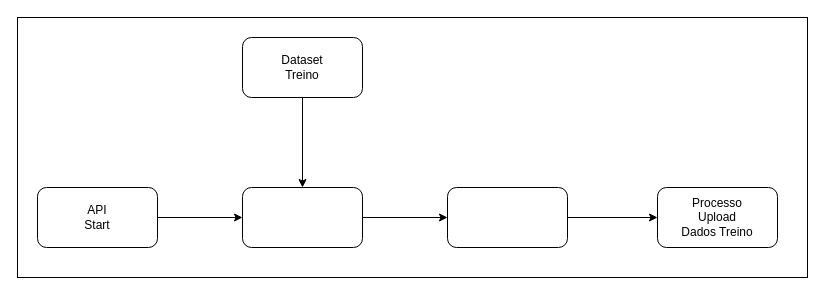
Some shapes in this 825 by 295 pixel diagram are drawn without their labels. Here are the shapes that lost their labels. From the top down, the centre of each, then its label:
the point at 302,217: Processo Data Prep
the point at 507,217: Processo Treino
